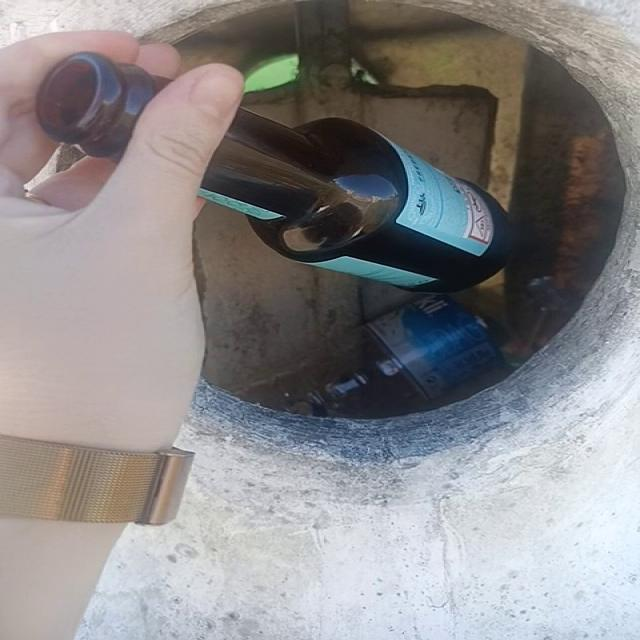glass: (200, 109, 512, 292), (36, 52, 167, 158)
